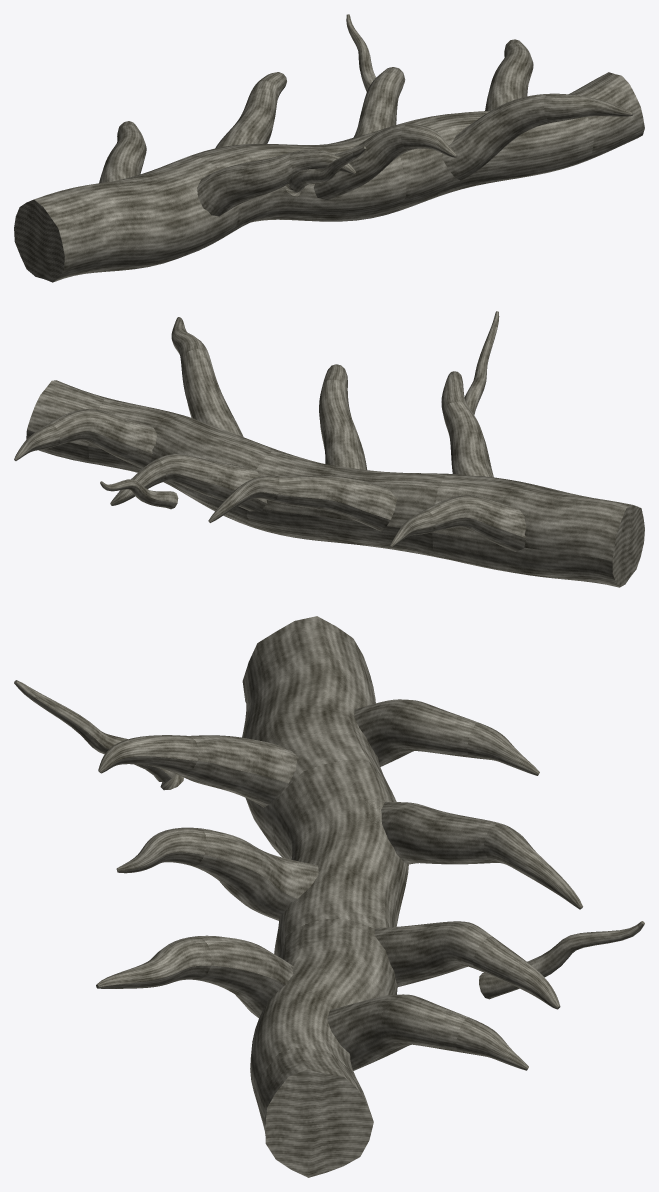
The model's file is PZ_FallenWood_07_ForkedDeadwood_Limb_2p3m.glb.
The picture shows the model from 3 angles, top to bottom: view 1: azimuth 30°, elevation 25°; view 2: azimuth 150°, elevation 25°; view 3: azimuth 270°, elevation 25°; orthographic projection. The views are drawn at different scales.
Visible parts, largest first — view 1: 07_ForkedDeadwood_Limb_2p3m_MainGreySnag_MESH, 07_ForkedDeadwood_Limb_2p3m_BrokenLateralBranch_05_MESH, 07_ForkedDeadwood_Limb_2p3m_BrokenLateralBranch_01_MESH, 07_ForkedDeadwood_Limb_2p3m_BrokenLateralBranch_03_MESH, 07_ForkedDeadwood_Limb_2p3m_BrokenLateralBranch_02_MESH, 07_ForkedDeadwood_Limb_2p3m_BrokenLateralBranch_04_MESH, 07_ForkedDeadwood_Limb_2p3m_BrokenLateralBranch_06_MESH, 07_ForkedDeadwood_Limb_2p3m_BrokenLateralBranch_00_MESH, 07_ForkedDeadwood_Limb_2p3m_BranchFork_01_MESH, 07_ForkedDeadwood_Limb_2p3m_BranchFork_04_MESH; view 2: 07_ForkedDeadwood_Limb_2p3m_MainGreySnag_MESH, 07_ForkedDeadwood_Limb_2p3m_BrokenLateralBranch_02_MESH, 07_ForkedDeadwood_Limb_2p3m_BrokenLateralBranch_06_MESH, 07_ForkedDeadwood_Limb_2p3m_BrokenLateralBranch_00_MESH, 07_ForkedDeadwood_Limb_2p3m_BrokenLateralBranch_04_MESH, 07_ForkedDeadwood_Limb_2p3m_BrokenLateralBranch_05_MESH, 07_ForkedDeadwood_Limb_2p3m_BrokenLateralBranch_03_MESH, 07_ForkedDeadwood_Limb_2p3m_BrokenLateralBranch_01_MESH, 07_ForkedDeadwood_Limb_2p3m_BranchFork_01_MESH, 07_ForkedDeadwood_Limb_2p3m_BranchFork_04_MESH; view 3: 07_ForkedDeadwood_Limb_2p3m_MainGreySnag_MESH, 07_ForkedDeadwood_Limb_2p3m_BrokenLateralBranch_06_MESH, 07_ForkedDeadwood_Limb_2p3m_BrokenLateralBranch_03_MESH, 07_ForkedDeadwood_Limb_2p3m_BrokenLateralBranch_01_MESH, 07_ForkedDeadwood_Limb_2p3m_BrokenLateralBranch_02_MESH, 07_ForkedDeadwood_Limb_2p3m_BrokenLateralBranch_05_MESH, 07_ForkedDeadwood_Limb_2p3m_BrokenLateralBranch_04_MESH, 07_ForkedDeadwood_Limb_2p3m_BrokenLateralBranch_00_MESH, 07_ForkedDeadwood_Limb_2p3m_BranchFork_04_MESH, 07_ForkedDeadwood_Limb_2p3m_BranchFork_01_MESH.
Part boxes in pixels (left/top/right/bottom): 07_ForkedDeadwood_Limb_2p3m_MainGreySnag_MESH: left=14, top=72, right=644, bottom=282; 07_ForkedDeadwood_Limb_2p3m_BrokenLateralBranch_05_MESH: left=442, top=93, right=633, bottom=180; 07_ForkedDeadwood_Limb_2p3m_BrokenLateralBranch_01_MESH: left=197, top=150, right=355, bottom=216; 07_ForkedDeadwood_Limb_2p3m_BrokenLateralBranch_03_MESH: left=313, top=124, right=457, bottom=200; 07_ForkedDeadwood_Limb_2p3m_BrokenLateralBranch_02_MESH: left=215, top=72, right=286, bottom=148; 07_ForkedDeadwood_Limb_2p3m_BrokenLateralBranch_04_MESH: left=353, top=67, right=405, bottom=137; 07_ForkedDeadwood_Limb_2p3m_BrokenLateralBranch_06_MESH: left=485, top=39, right=533, bottom=110; 07_ForkedDeadwood_Limb_2p3m_BrokenLateralBranch_00_MESH: left=99, top=121, right=146, bottom=183; 07_ForkedDeadwood_Limb_2p3m_BranchFork_01_MESH: left=285, top=146, right=366, bottom=196; 07_ForkedDeadwood_Limb_2p3m_BranchFork_04_MESH: left=346, top=14, right=375, bottom=92; 07_ForkedDeadwood_Limb_2p3m_MainGreySnag_MESH: left=26, top=380, right=644, bottom=587; 07_ForkedDeadwood_Limb_2p3m_BrokenLateralBranch_02_MESH: left=208, top=475, right=396, bottom=531; 07_ForkedDeadwood_Limb_2p3m_BrokenLateralBranch_06_MESH: left=14, top=409, right=156, bottom=468; 07_ForkedDeadwood_Limb_2p3m_BrokenLateralBranch_00_MESH: left=390, top=495, right=526, bottom=551; 07_ForkedDeadwood_Limb_2p3m_BrokenLateralBranch_04_MESH: left=110, top=454, right=267, bottom=511; 07_ForkedDeadwood_Limb_2p3m_BrokenLateralBranch_05_MESH: left=171, top=317, right=243, bottom=436; 07_ForkedDeadwood_Limb_2p3m_BrokenLateralBranch_03_MESH: left=319, top=364, right=367, bottom=469; 07_ForkedDeadwood_Limb_2p3m_BrokenLateralBranch_01_MESH: left=441, top=371, right=493, bottom=477; 07_ForkedDeadwood_Limb_2p3m_BranchFork_01_MESH: left=464, top=311, right=499, bottom=414; 07_ForkedDeadwood_Limb_2p3m_BranchFork_04_MESH: left=100, top=479, right=178, bottom=509; 07_ForkedDeadwood_Limb_2p3m_MainGreySnag_MESH: left=242, top=616, right=408, bottom=1177; 07_ForkedDeadwood_Limb_2p3m_BrokenLateralBranch_06_MESH: left=327, top=994, right=528, bottom=1070; 07_ForkedDeadwood_Limb_2p3m_BrokenLateralBranch_03_MESH: left=116, top=827, right=318, bottom=920; 07_ForkedDeadwood_Limb_2p3m_BrokenLateralBranch_01_MESH: left=98, top=735, right=298, bottom=807; 07_ForkedDeadwood_Limb_2p3m_BrokenLateralBranch_02_MESH: left=381, top=802, right=582, bottom=909; 07_ForkedDeadwood_Limb_2p3m_BrokenLateralBranch_05_MESH: left=96, top=935, right=293, bottom=1017; 07_ForkedDeadwood_Limb_2p3m_BrokenLateralBranch_04_MESH: left=374, top=921, right=560, bottom=1009; 07_ForkedDeadwood_Limb_2p3m_BrokenLateralBranch_00_MESH: left=354, top=699, right=539, bottom=775; 07_ForkedDeadwood_Limb_2p3m_BranchFork_04_MESH: left=479, top=921, right=644, bottom=999; 07_ForkedDeadwood_Limb_2p3m_BranchFork_01_MESH: left=14, top=680, right=183, bottom=790.
Bounding box in the file's own units: 2.29 × 0.628 × 1.39.
Materials: 1 (1 with a texture image).
